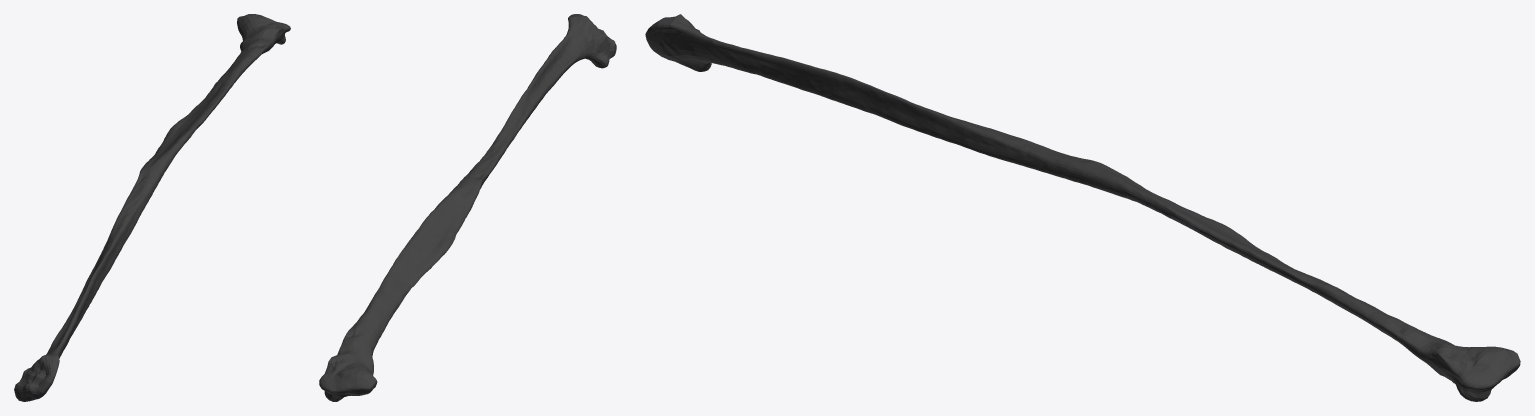
File: tibia_and_fibula_L.glb
The picture shows the model from 3 angles, left to right: view 1: azimuth 30°, elevation 25°; view 2: azimuth 210°, elevation 25°; view 3: azimuth 270°, elevation 25°; orthographic projection. The views are drawn at different scales.
Visible parts, largest first — view 1: tibia_and_fibula_L; view 2: tibia_and_fibula_L; view 3: tibia_and_fibula_L.
Part boxes in pixels (x1,y1,x2,y2): tibia_and_fibula_L: [14, 14, 290, 401]; tibia_and_fibula_L: [319, 14, 616, 401]; tibia_and_fibula_L: [645, 14, 1520, 401].
Bounding box in the file's own units: 0.2296 × 0.0249 × 0.2242.
1 material, 1 textured.
